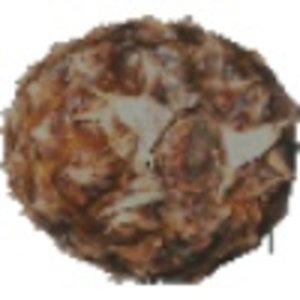abacaxi: (5, 11, 295, 289)
